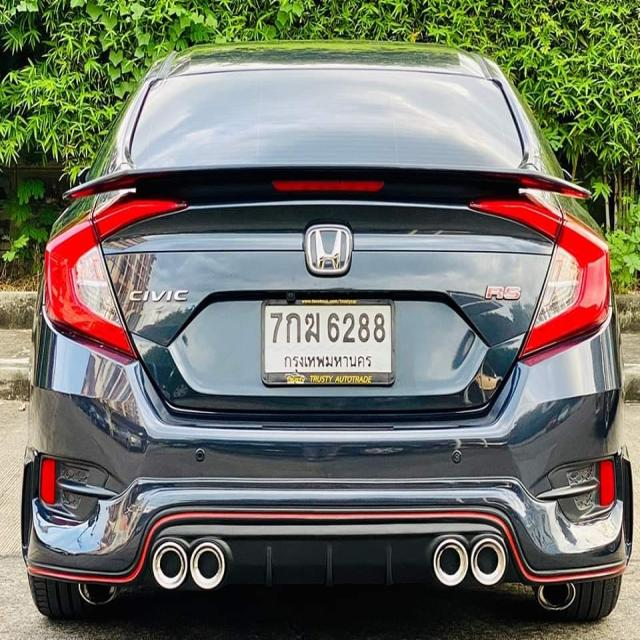license_plate: (260, 294, 398, 389)
